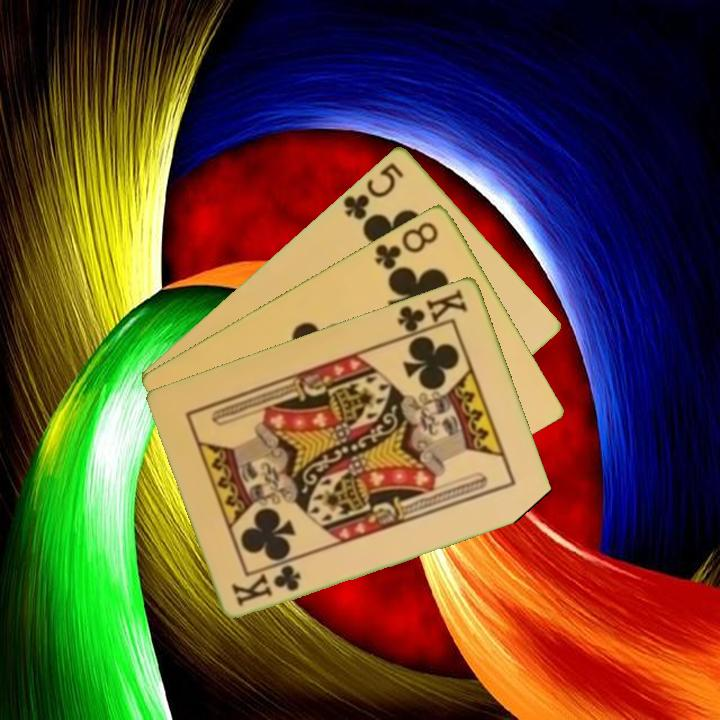5c: (339, 158, 407, 223)
8c: (371, 217, 442, 272)
Kc: (394, 285, 471, 340), (228, 561, 305, 609)
